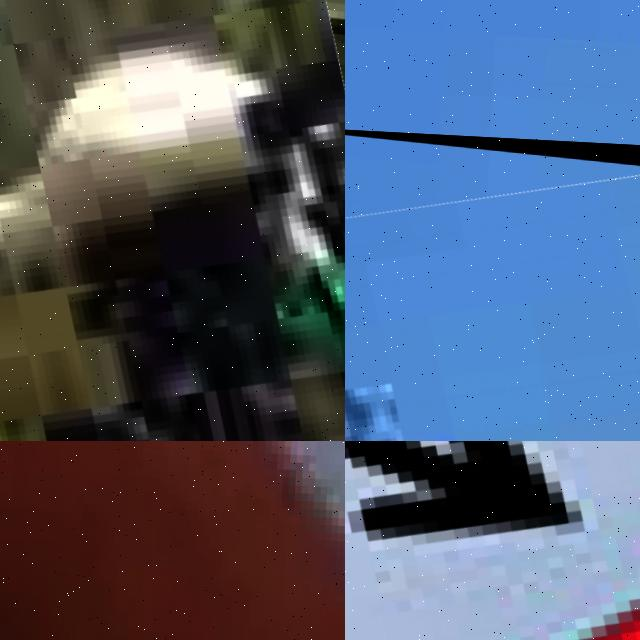drone: (0, 0, 345, 441), (345, 124, 640, 441), (345, 441, 640, 640)
